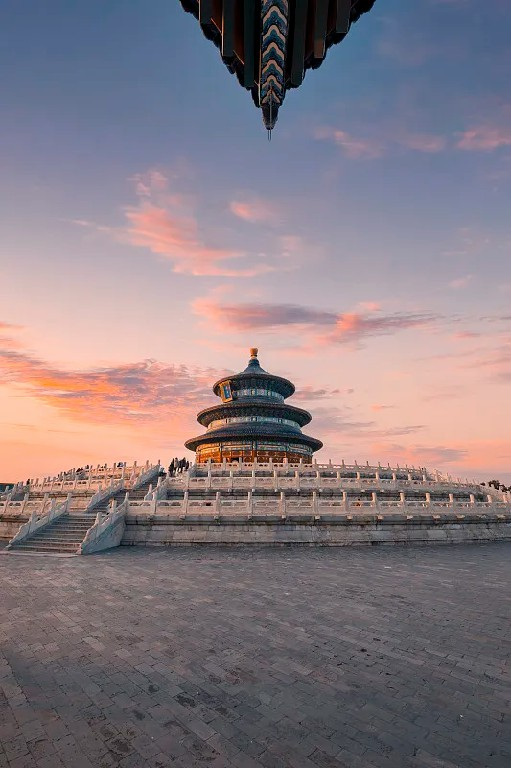Heaven: (184, 347, 322, 464)
